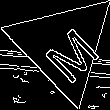M_NW: (29, 12, 97, 80)
